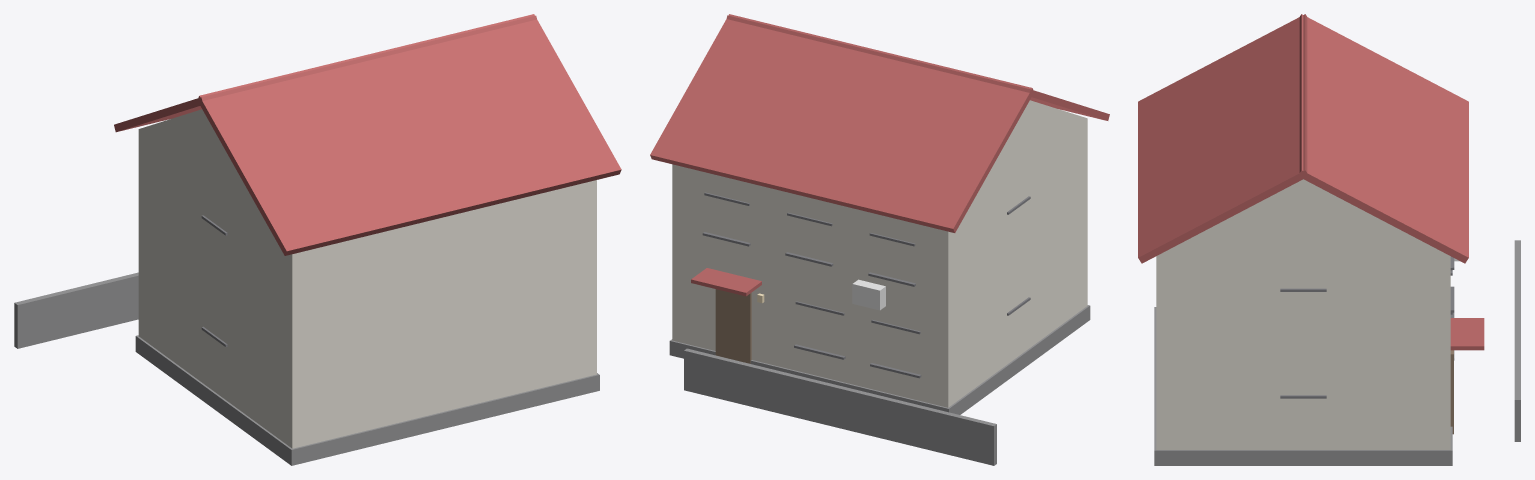
Rendered from House_B.fbx.
The picture shows the model from 3 angles, left to right: view 1: azimuth 30°, elevation 25°; view 2: azimuth 150°, elevation 25°; view 3: azimuth 270°, elevation 25°; orthographic projection. The views are drawn at different scales.
Visible parts, largest first — view 1: House_B_Mesh; view 2: House_B_Mesh; view 3: House_B_Mesh.
Boxes of the visible parts, left/top/right/bottom form: House_B_Mesh: left=14, top=14, right=621, bottom=465; House_B_Mesh: left=650, top=14, right=1109, bottom=465; House_B_Mesh: left=1138, top=14, right=1520, bottom=465.
Bounding box in the file's own units: 10.7 × 9.11 × 7.93.
